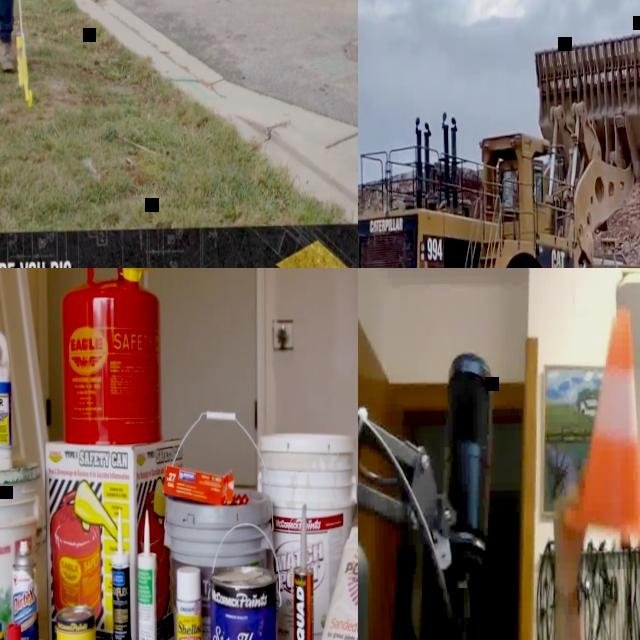Safety Cone: (556, 296, 640, 555)
machinery: (358, 15, 640, 268)
